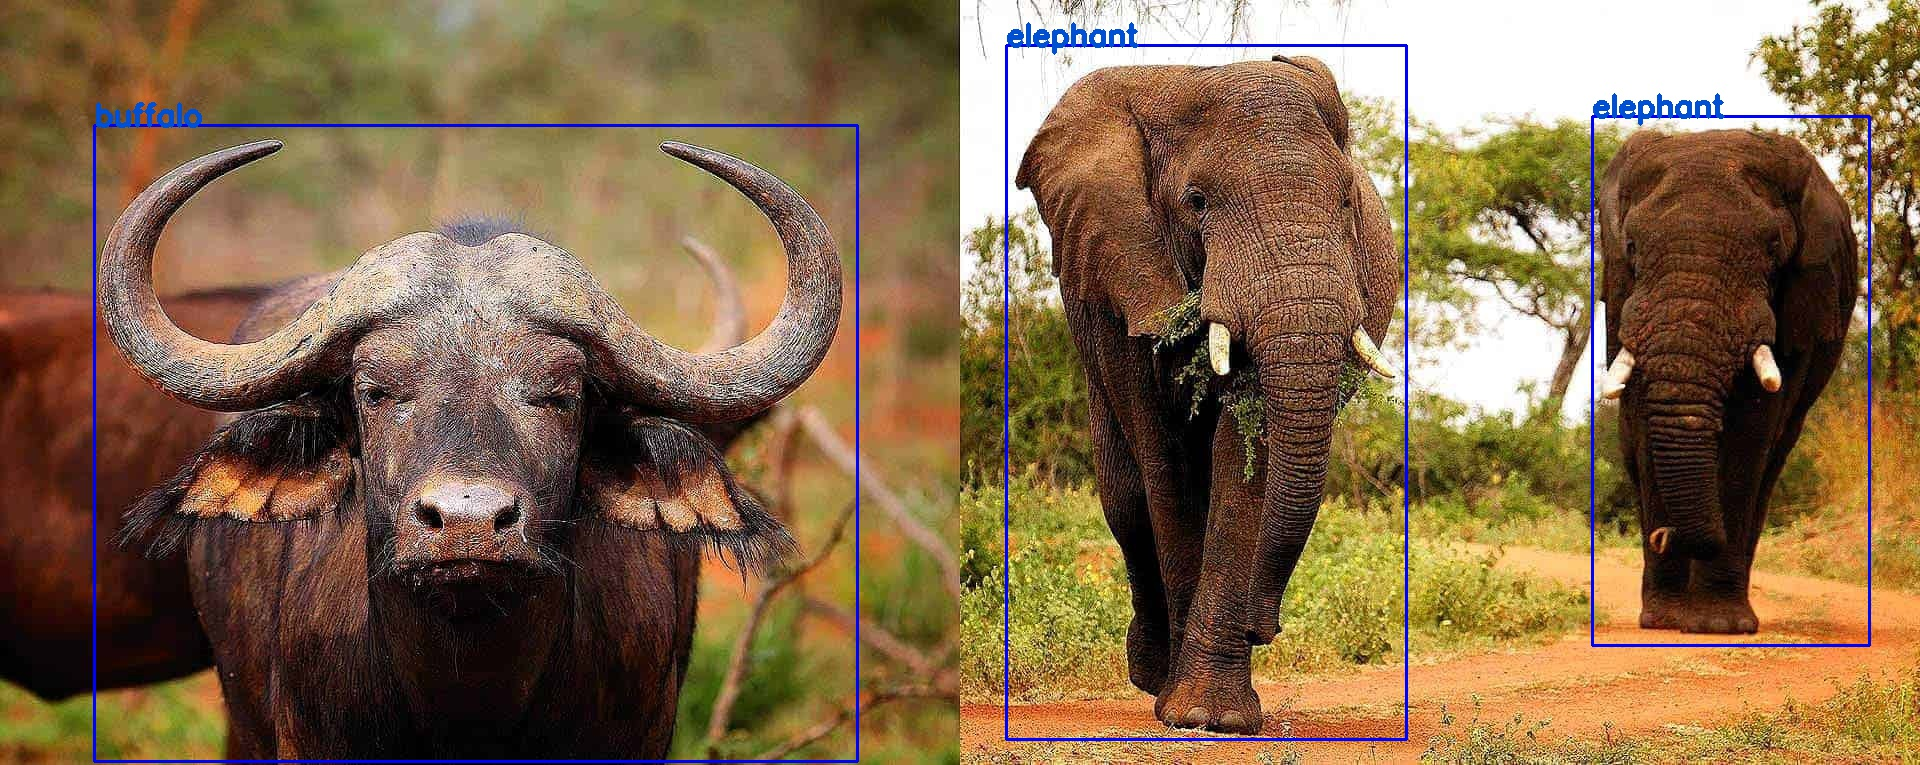buffalo: (93, 124, 856, 761)
elephant: (1007, 44, 1404, 738), (1591, 116, 1869, 645)
